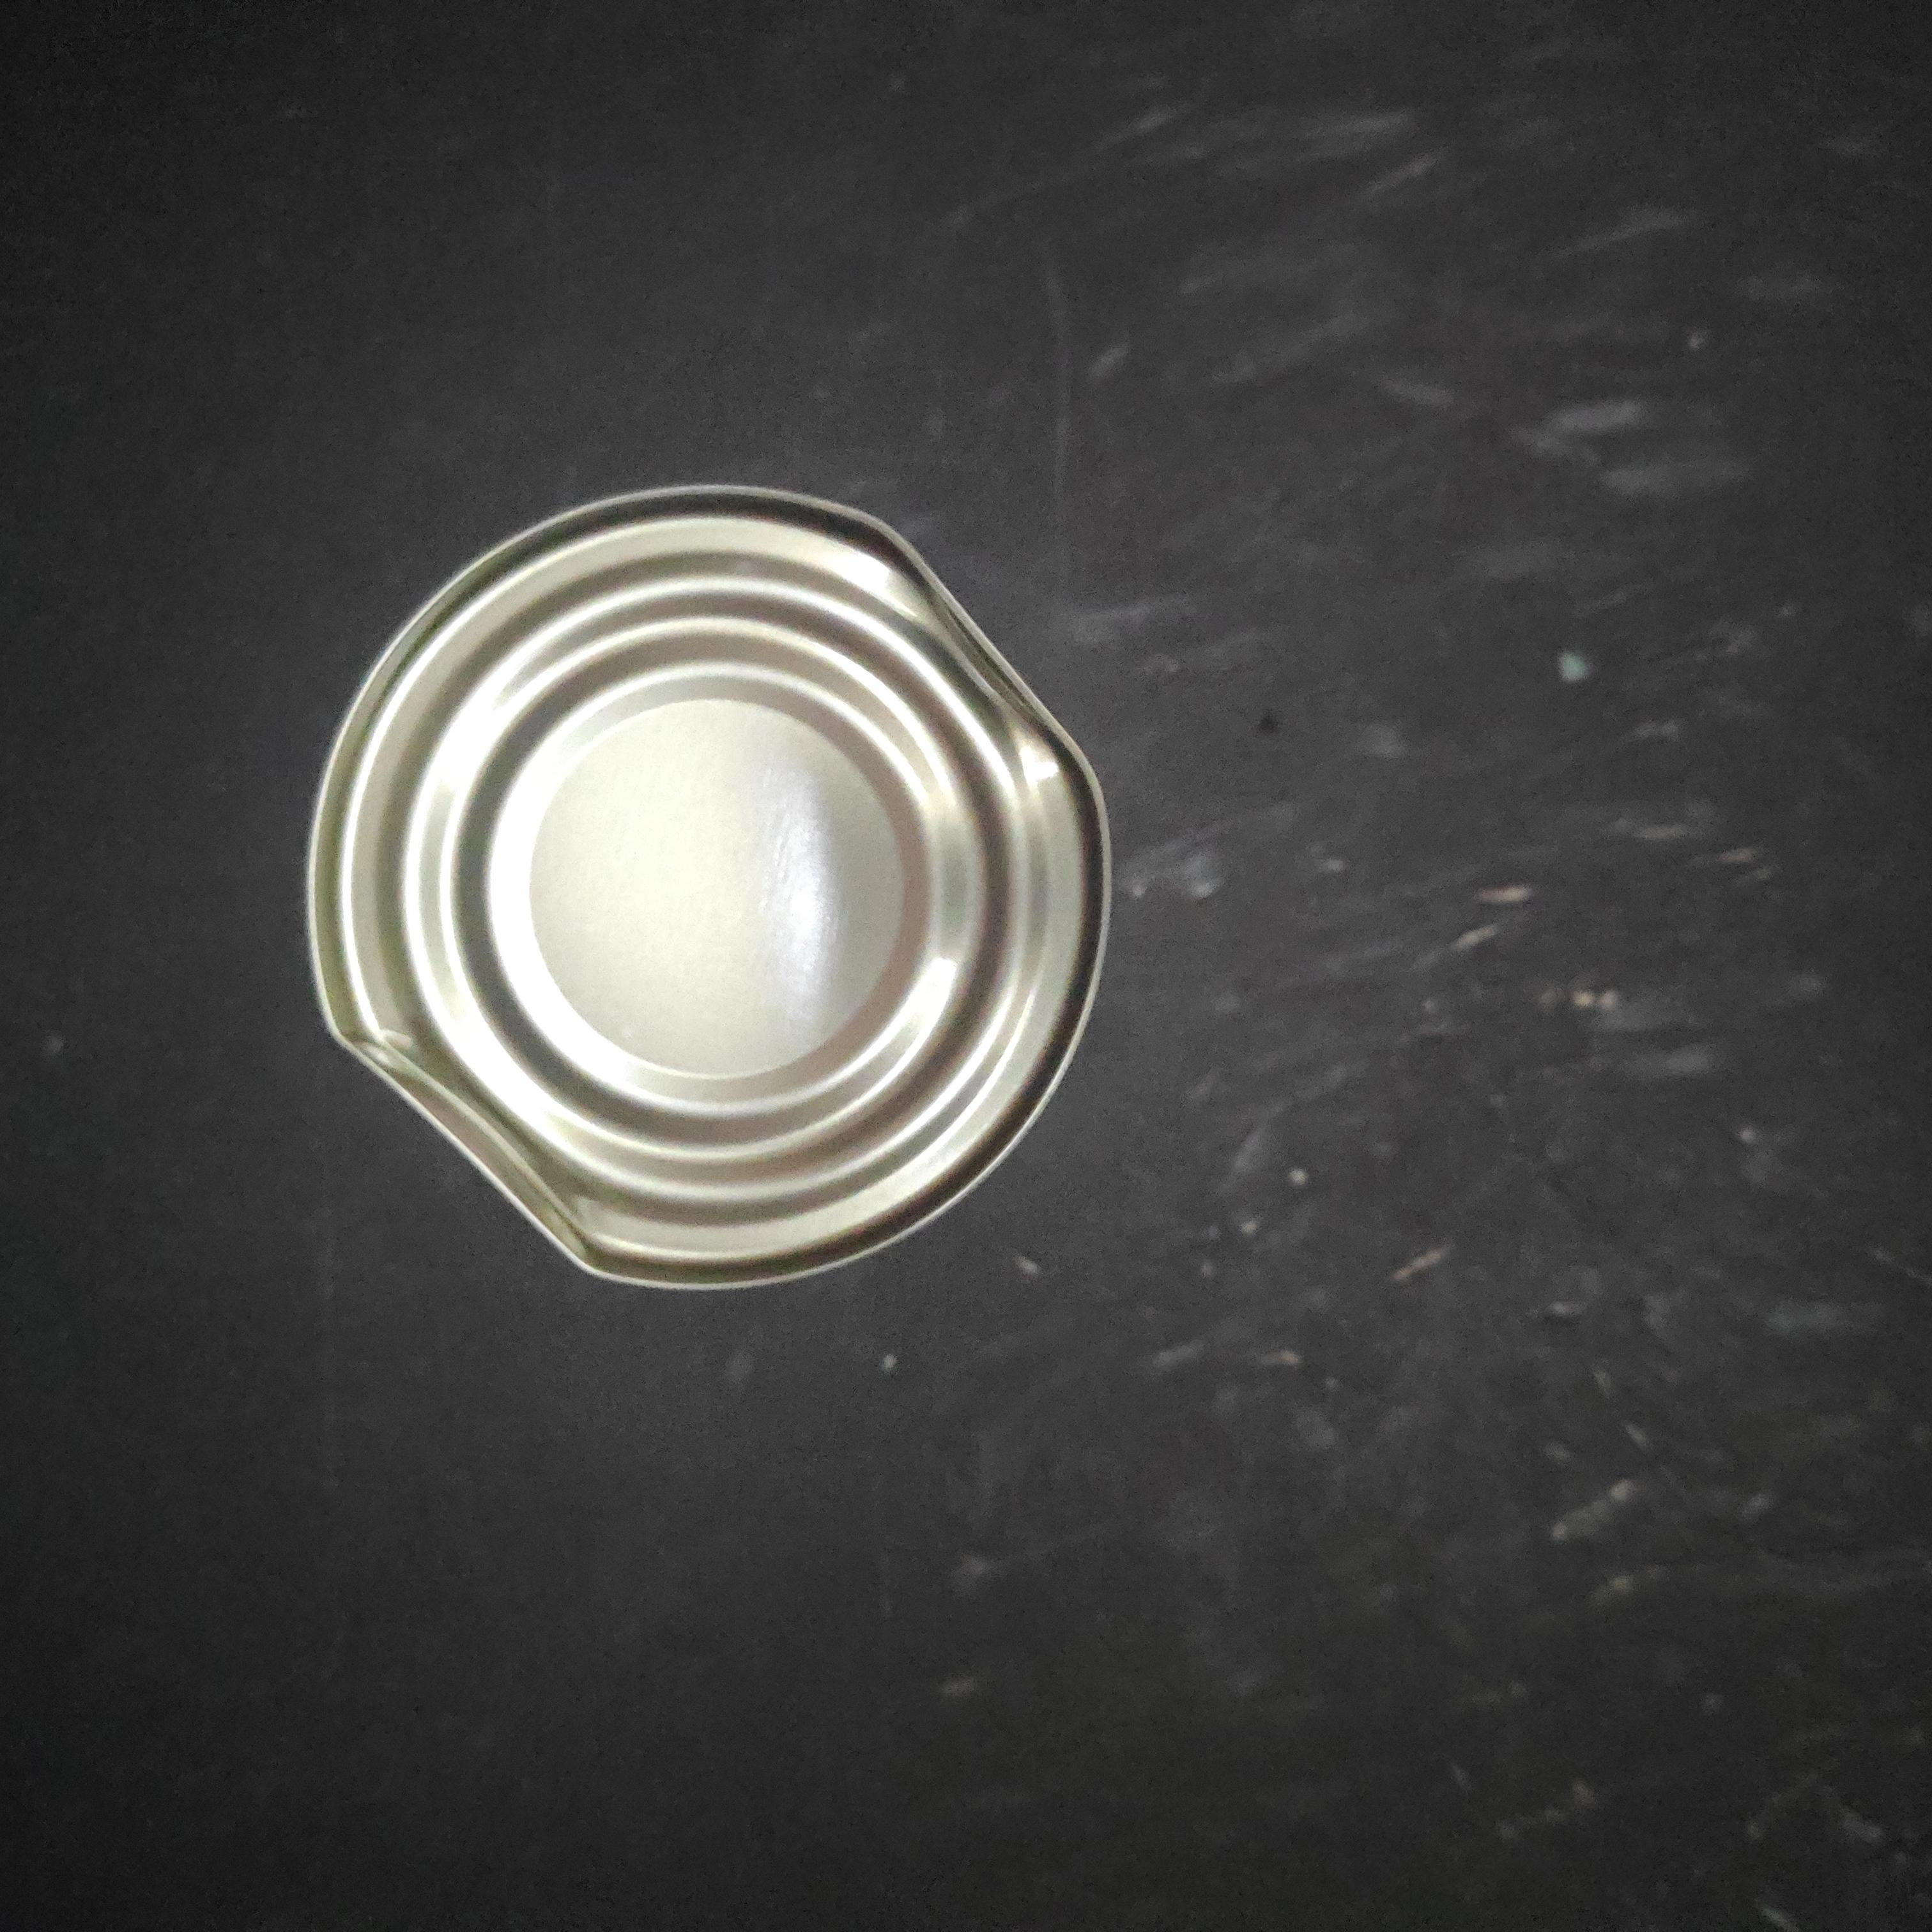Minor Defect: (800, 614, 1651, 1476)
